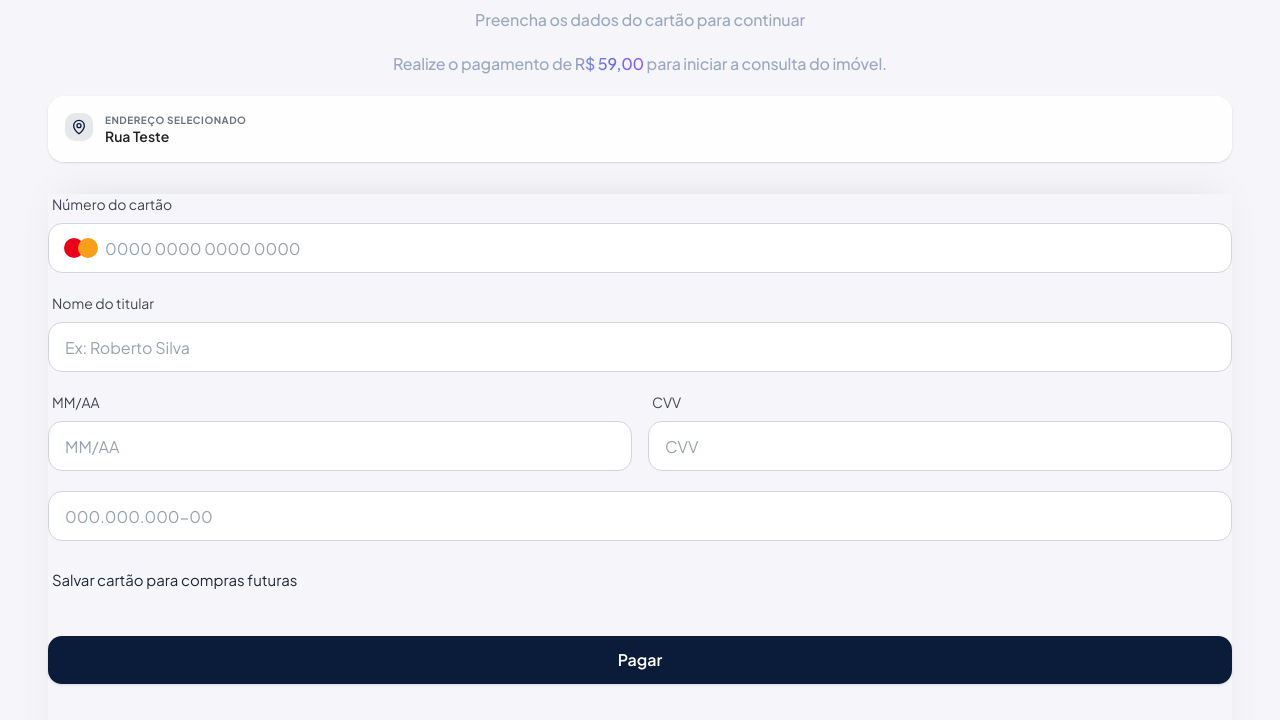
Test case: CreditCardPage › deve aplicar a máscara de CVV (apenas números e limite de 4)
Type "123a" into the field with placeholder "CVV" at [940, 446], box [648, 421, 1232, 471]
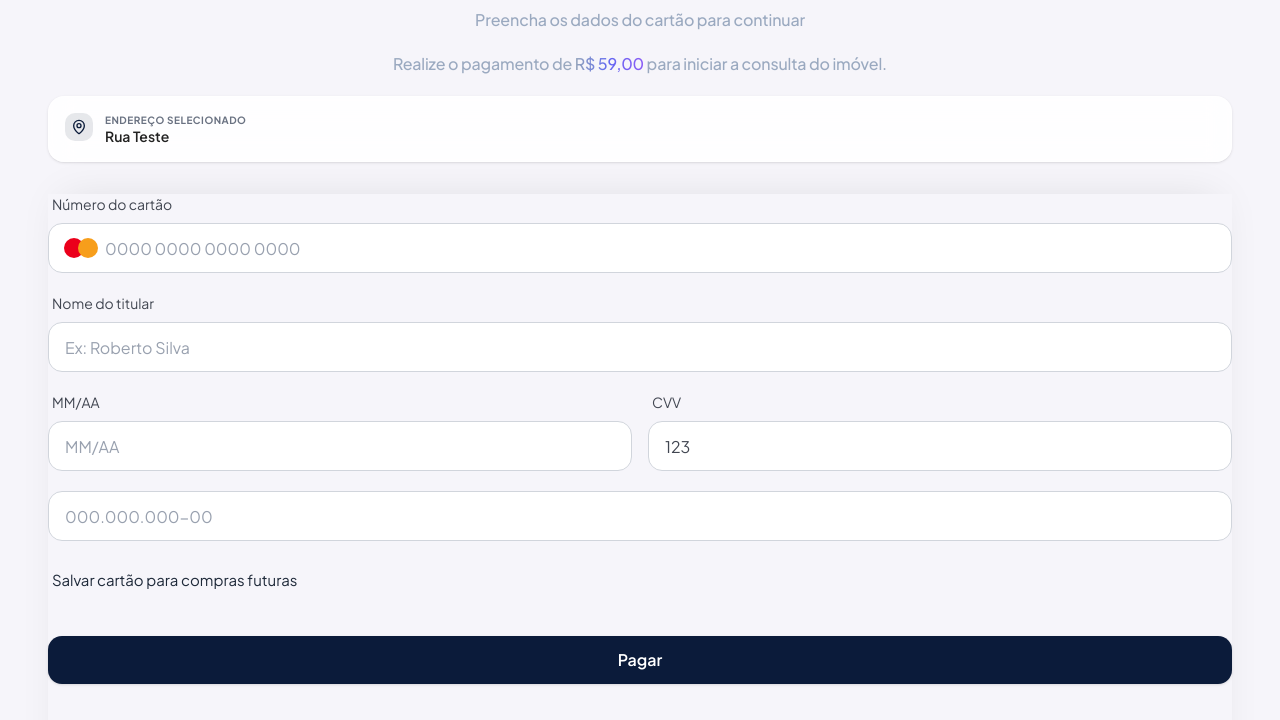
Expected: the field with placeholder "CVV" holds "123"
Replace the text in the field with placeholder "CVV" with "12345" at [940, 446], box [648, 421, 1232, 471]
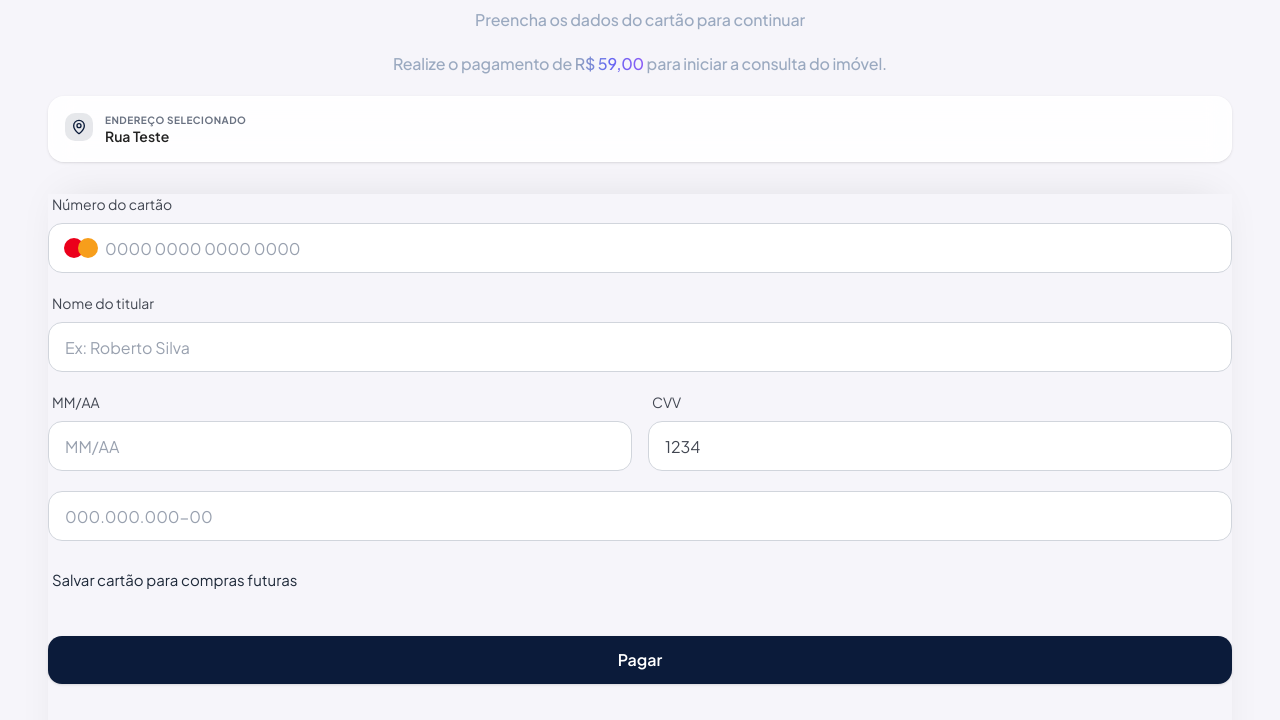
Expected: the field with placeholder "CVV" holds "1234", [648, 421, 1232, 471]
